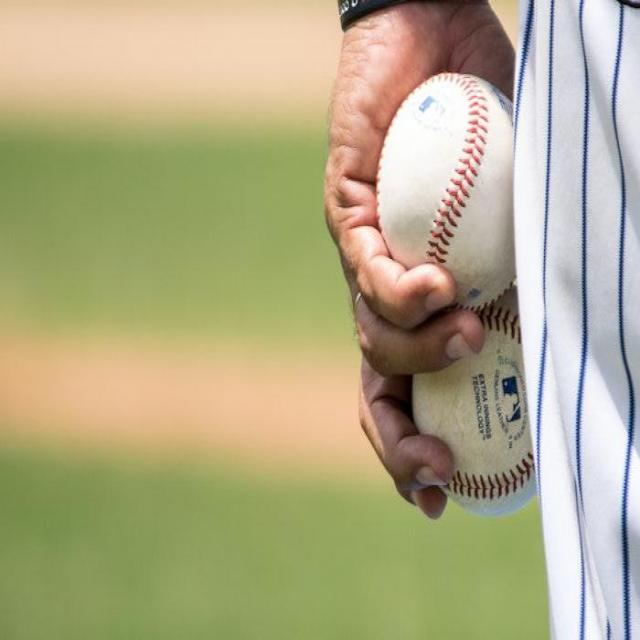baseball: (375, 65, 520, 304), (412, 300, 540, 511)
